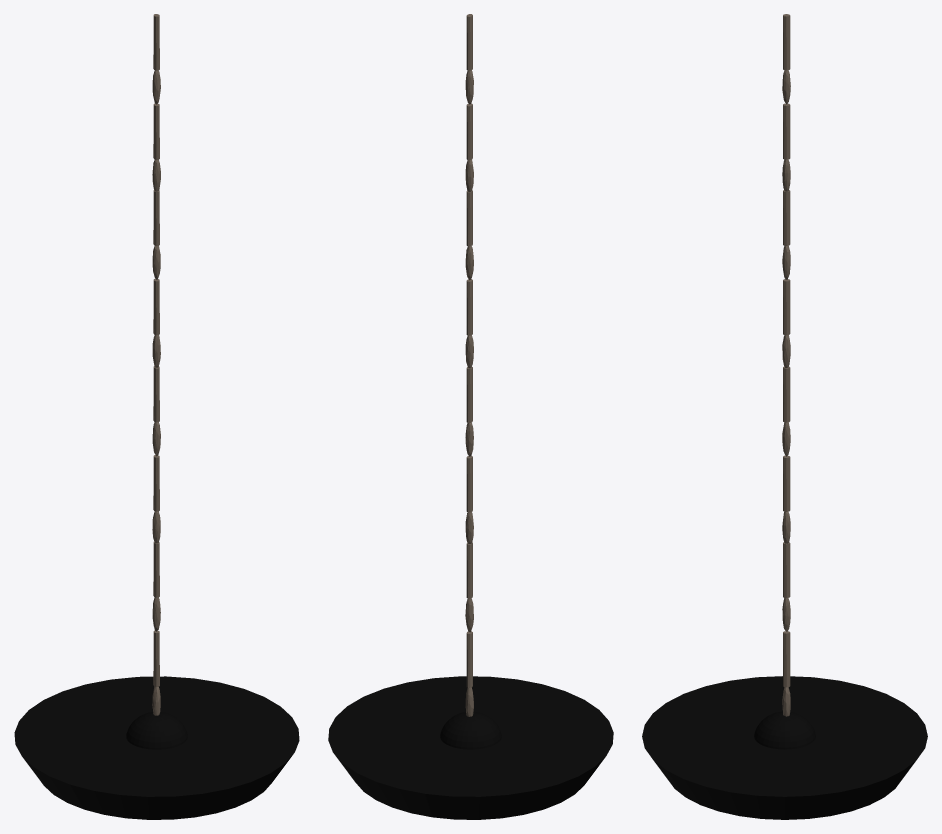
The model's file is probka.fbx.
The picture shows the model from 3 angles, left to right: view 1: azimuth 30°, elevation 25°; view 2: azimuth 150°, elevation 25°; view 3: azimuth 270°, elevation 25°; orthographic projection.
Visible parts, largest first — view 1: probka, cep; view 2: probka, cep; view 3: probka, cep.
Boxes of the visible parts, x1=… form: probka: x1=14, y1=676, x2=299, y2=819; cep: x1=152, y1=14, x2=160, y2=715; probka: x1=328, y1=676, x2=613, y2=819; cep: x1=465, y1=14, x2=473, y2=716; probka: x1=642, y1=676, x2=927, y2=819; cep: x1=782, y1=14, x2=790, y2=716.
Size of the model in its own units: 11.86 by 34.54 by 11.86.
